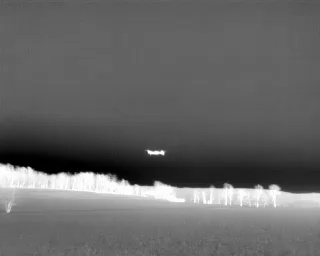DRONE: (141, 144, 170, 162)
